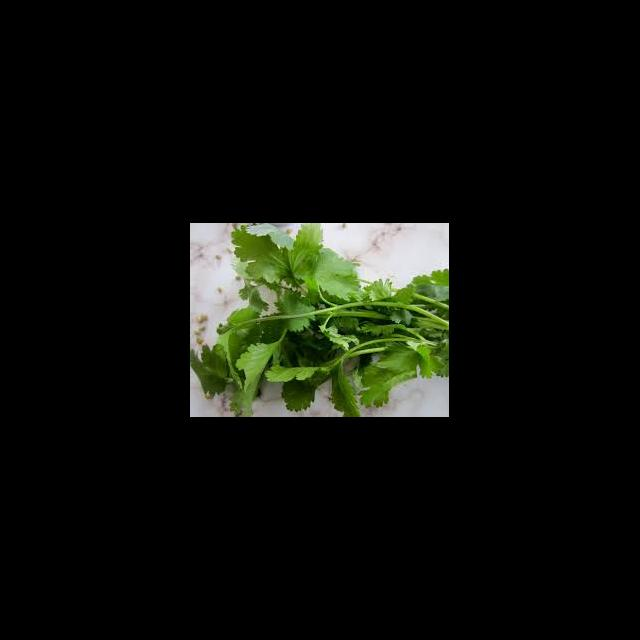cilantro: (190, 223, 450, 417)
